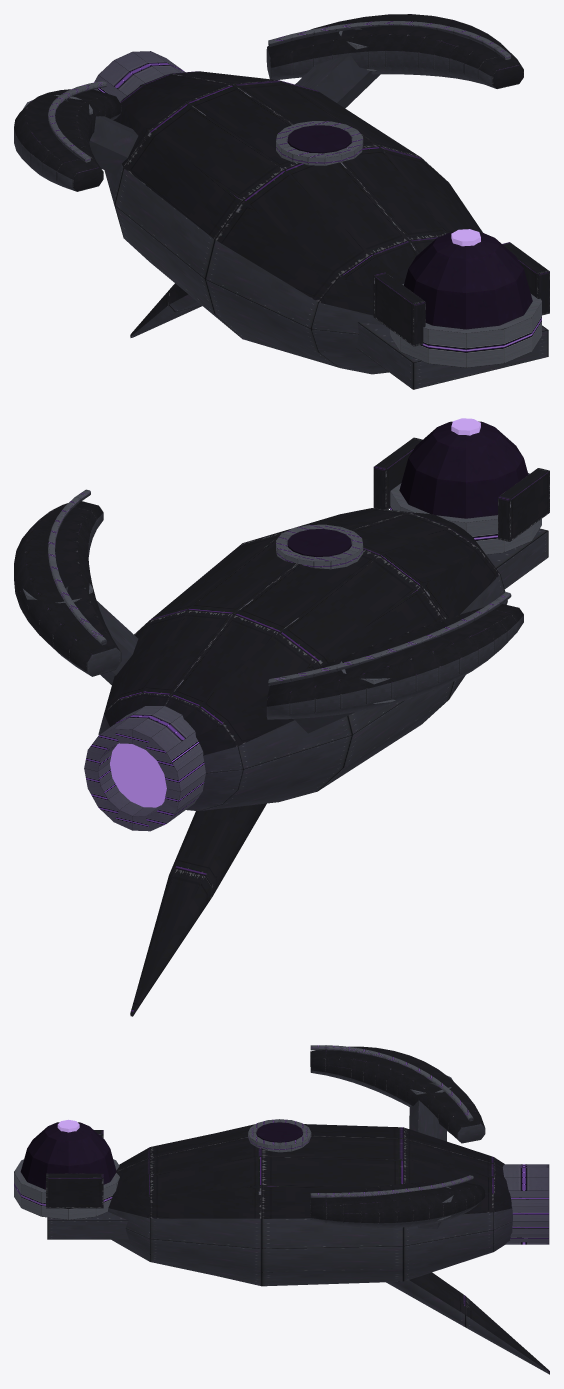
The model's file is pioneer-eris-l02-shield.glb.
3 views of the same model, one above another, from view 1: azimuth 30°, elevation 25°; view 2: azimuth 150°, elevation 25°; view 3: azimuth 270°, elevation 25° (orthographic). The views are drawn at different scales.
Visible parts, largest first — view 1: Drone; view 2: Drone; view 3: Drone.
Boxes of the visible parts, x1,y1,x2,y2 form: Drone: (14, 14, 549, 389); Drone: (14, 418, 549, 1016); Drone: (14, 1045, 549, 1374).
Bounding box in the file's own units: 0.9147 × 0.6652 × 1.27.
3 materials, 3 textured.
